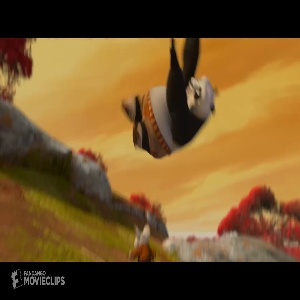po: (120, 37, 220, 160)
shifu: (126, 220, 159, 262)
